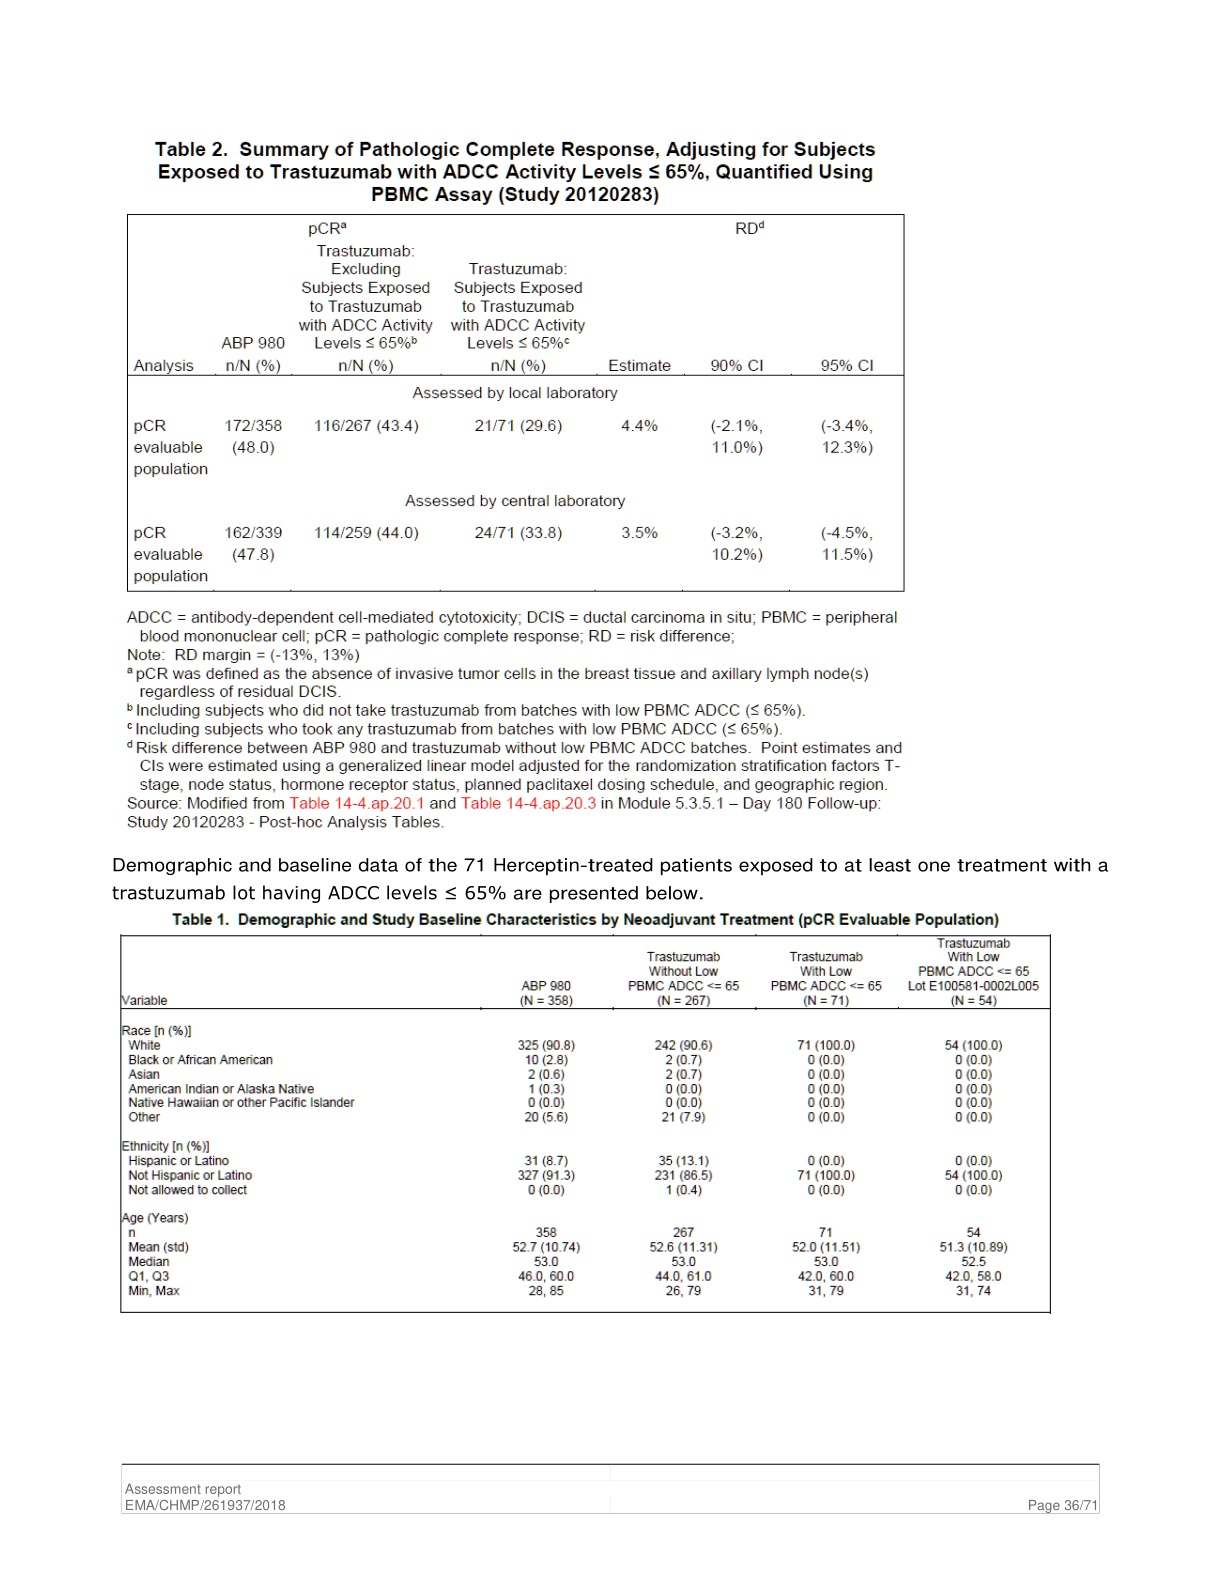partial_lined: (120, 933, 1053, 1314)
partial_lined_merged_cells: (125, 212, 906, 594)
